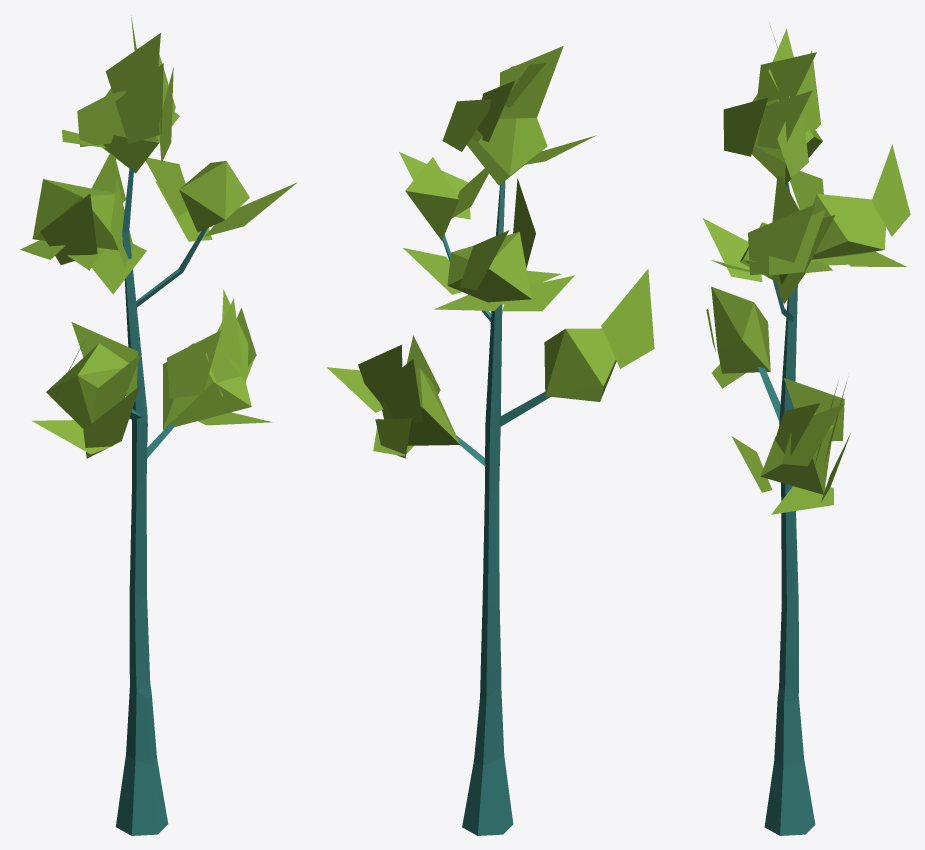
File: tree-birch-sapling-a.gltf
The picture shows the model from 3 angles, left to right: view 1: azimuth 30°, elevation 25°; view 2: azimuth 150°, elevation 25°; view 3: azimuth 270°, elevation 25°; orthographic projection. The views are drawn at different scales.
Parts seen in each view (by area): view 1: tree-birch-sapling-a; view 2: tree-birch-sapling-a; view 3: tree-birch-sapling-a.
Part boxes in pixels (bbox=[...]): tree-birch-sapling-a: bbox=[20, 15, 297, 835]; tree-birch-sapling-a: bbox=[327, 46, 654, 835]; tree-birch-sapling-a: bbox=[702, 23, 910, 835].
Bounding box in the file's own units: 0.00669 × 0.0199 × 0.0052.
